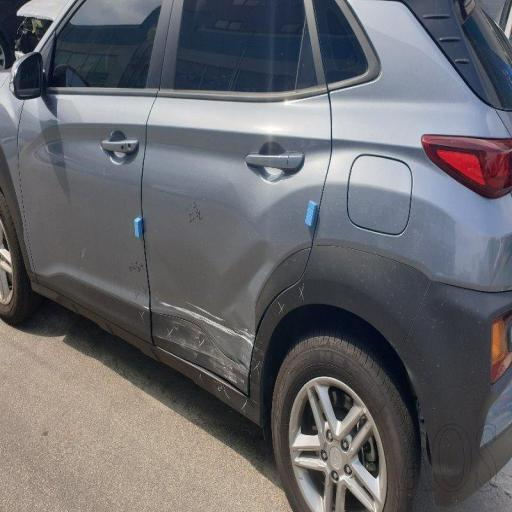scratch: (121, 220, 313, 433)
